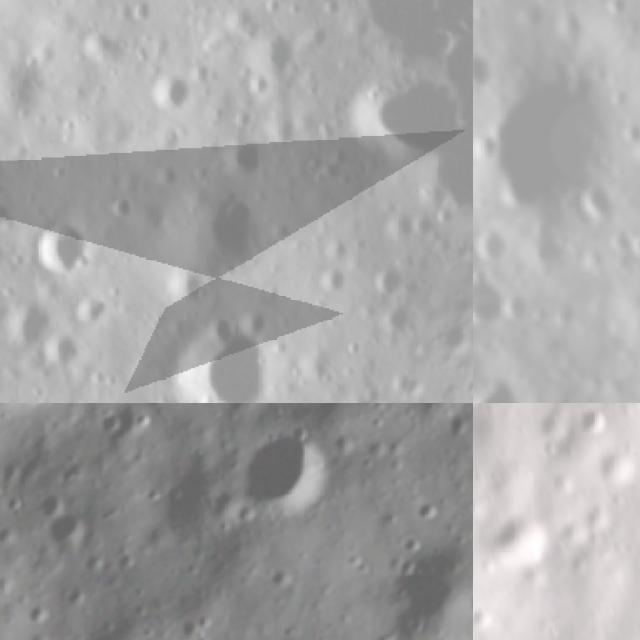crater: (473, 46, 632, 230), (214, 414, 354, 554), (331, 38, 473, 173), (161, 308, 286, 403), (192, 184, 266, 269), (30, 210, 107, 288), (22, 498, 92, 566), (487, 502, 551, 576), (136, 61, 202, 125), (520, 209, 579, 280), (0, 292, 60, 358), (218, 126, 279, 190), (245, 23, 306, 87), (473, 266, 518, 333), (164, 256, 216, 310), (574, 179, 625, 231), (473, 363, 536, 403), (68, 284, 117, 329), (473, 222, 516, 267), (565, 403, 616, 439), (473, 41, 504, 99), (550, 294, 588, 338), (123, 0, 162, 33), (597, 0, 640, 29), (528, 292, 558, 332), (623, 215, 640, 268), (618, 114, 640, 151), (287, 0, 341, 11)
